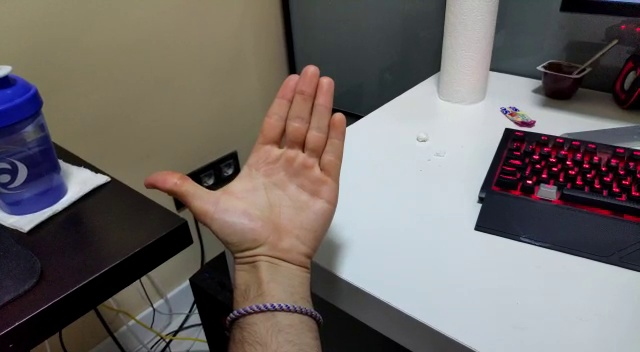Palm: (140, 55, 353, 266)
